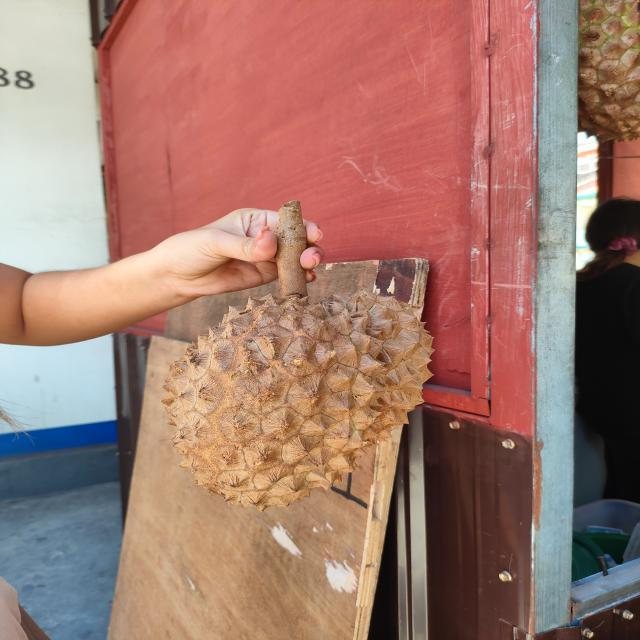mature: (161, 287, 435, 515)
